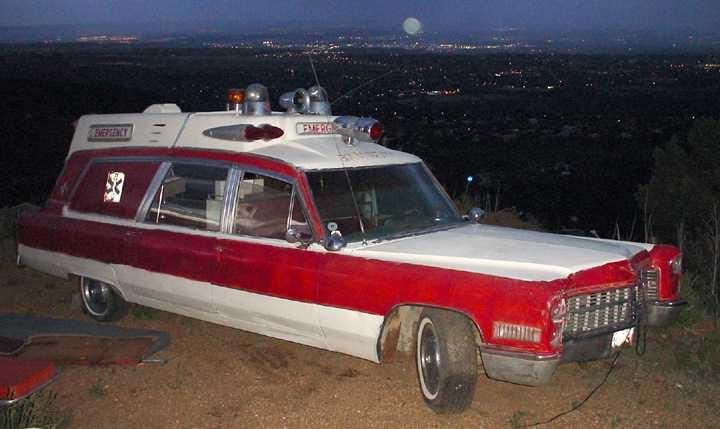car: (14, 70, 687, 414)
